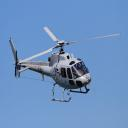helicopter: (9, 28, 121, 104)
